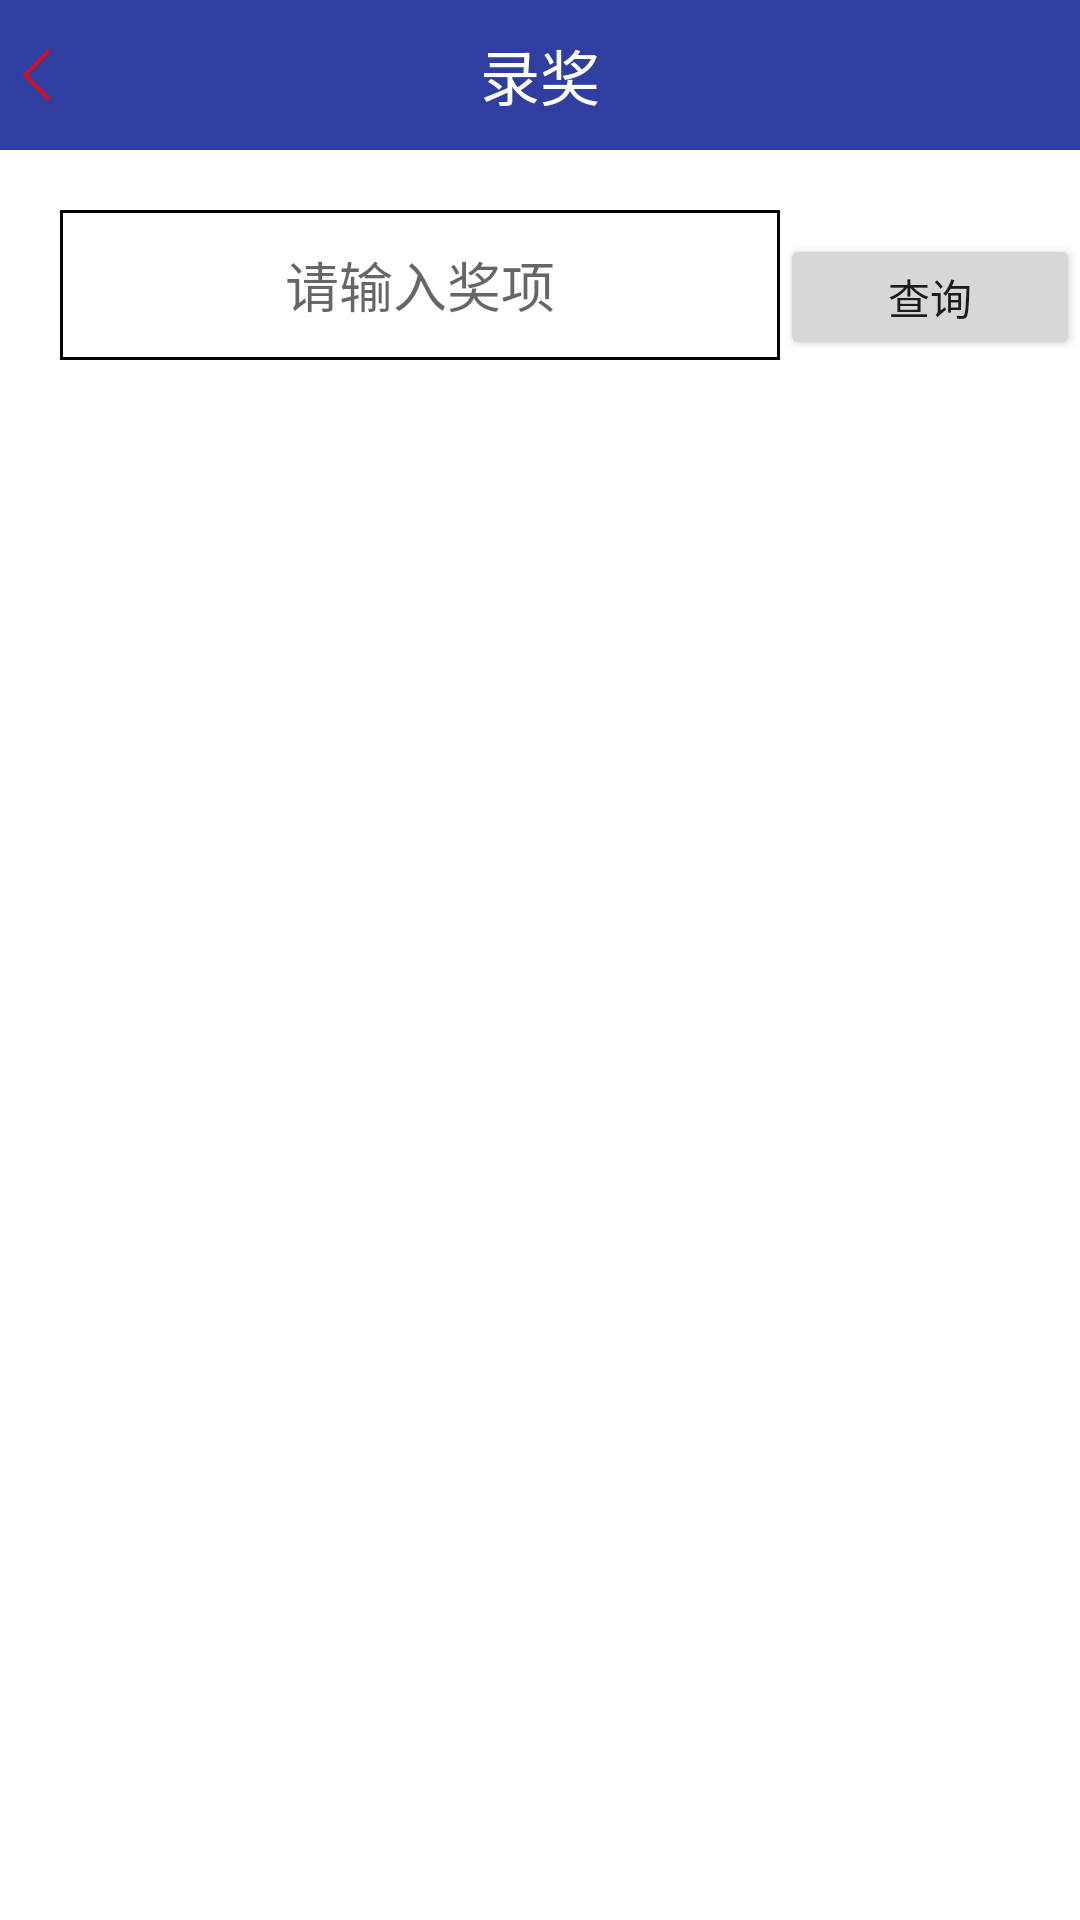

Icon bounding boxes for this 1080x1920 phone screenshot, format (x1, y1, x2, y2):
back: (23, 49, 51, 101)
